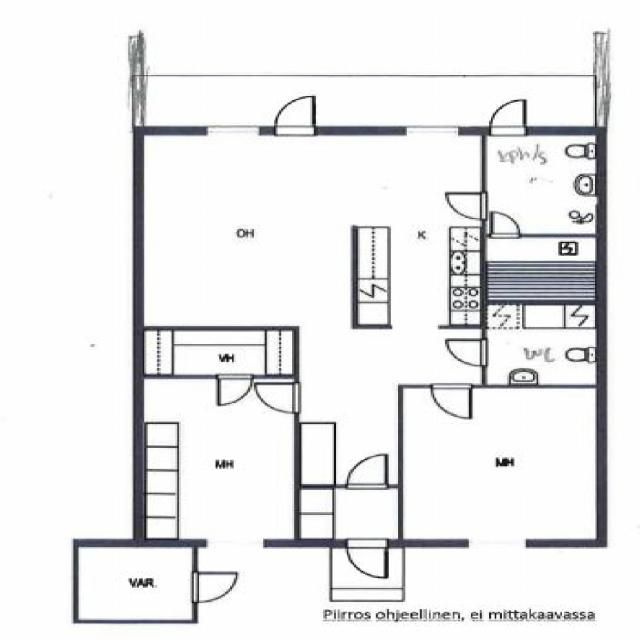door: (347, 539, 388, 578), (275, 96, 315, 134), (347, 453, 387, 488), (253, 383, 299, 413), (489, 98, 526, 135), (191, 572, 236, 602), (432, 384, 471, 418), (448, 192, 487, 218), (448, 340, 487, 366), (218, 374, 251, 404), (491, 212, 520, 237)
